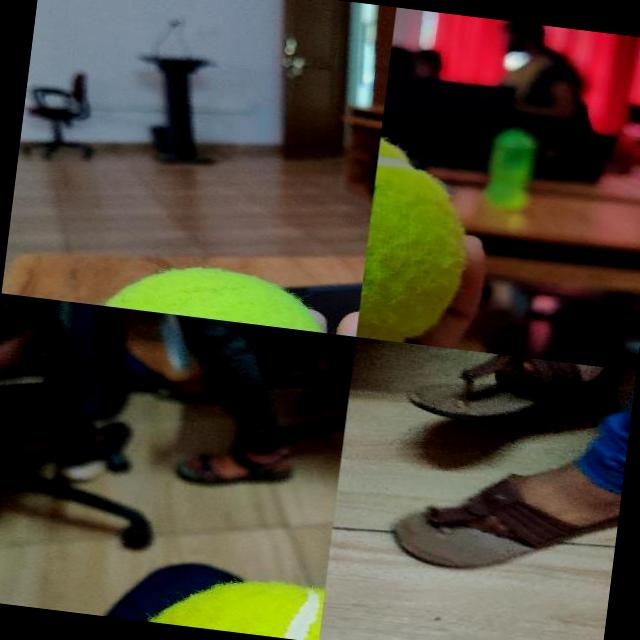Tennis Ball: (356, 127, 478, 347), (90, 255, 338, 332)
